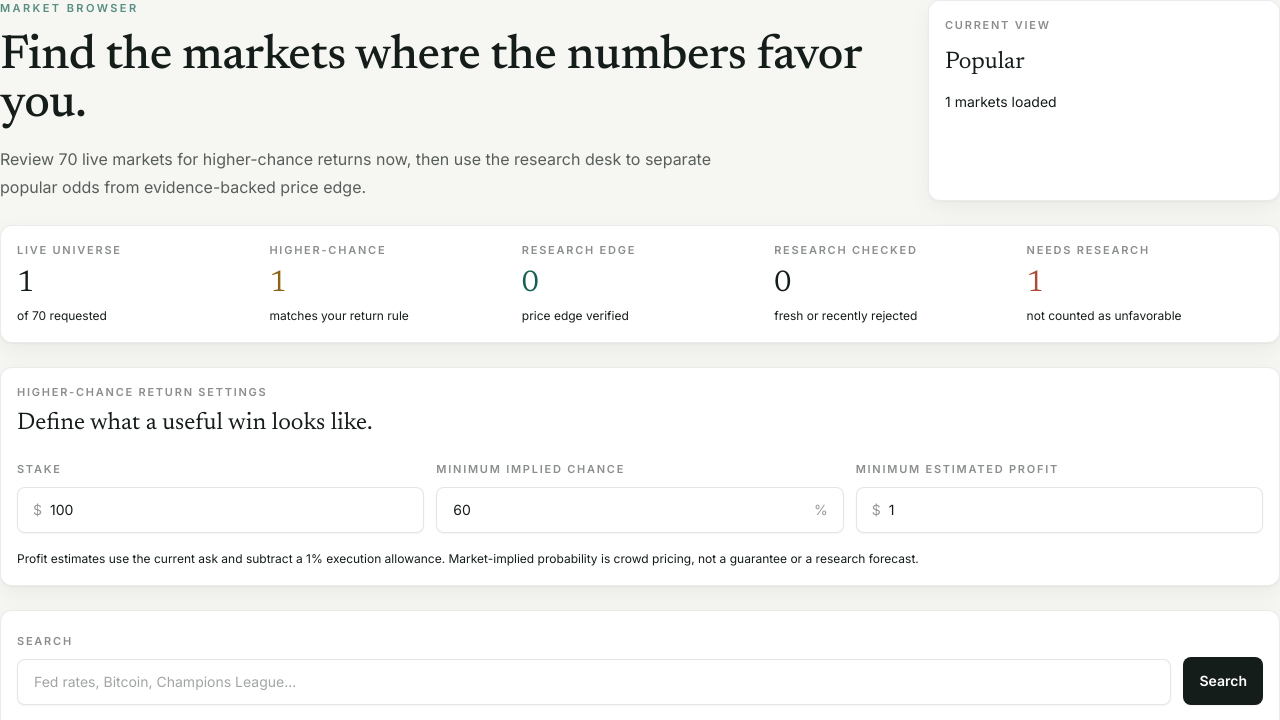
Test: MarketBrowserClient › calculates higher-chance returns from the live ask and user stake
Replace the text in the number field labelled "Stake" with "200" at (221, 510), box [17,486,424,532]
(page scrolled)
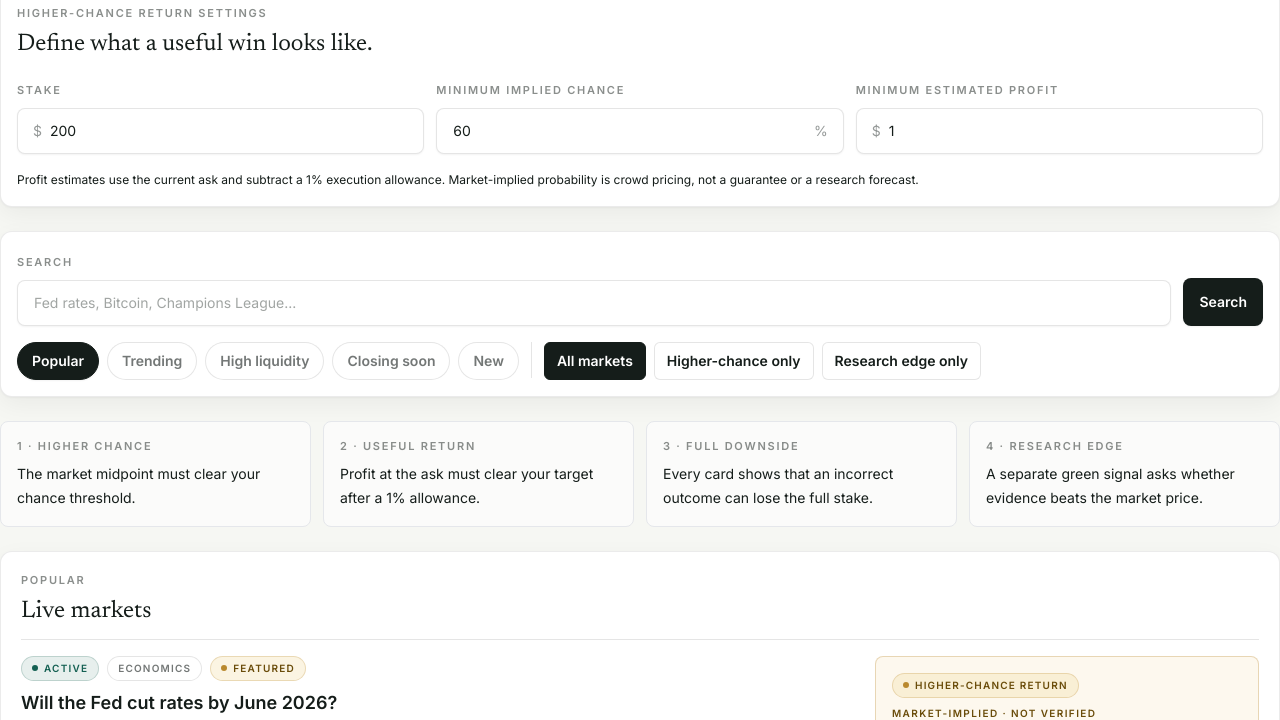
Click the button "Higher-chance only" at (734, 360), box [654,342,814,380]
(page scrolled)
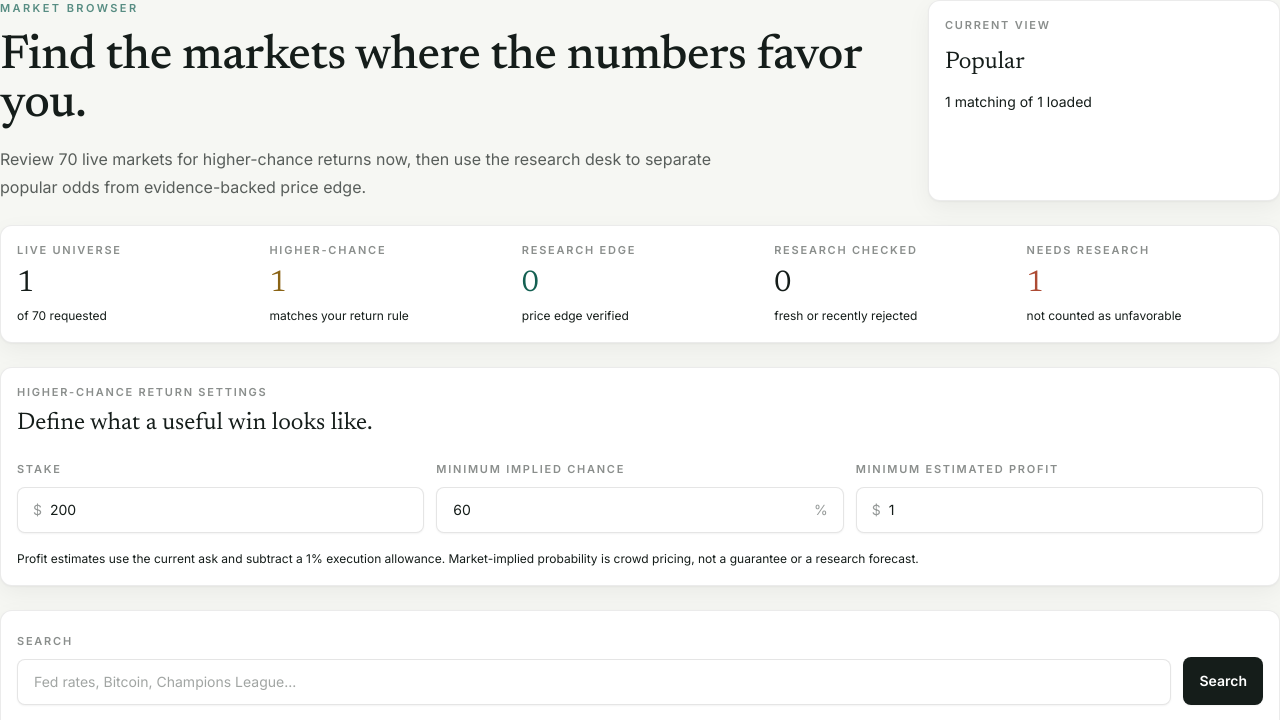
Result: the text "1 matching of 1 loaded" is shown at [945,92,1092,110]
